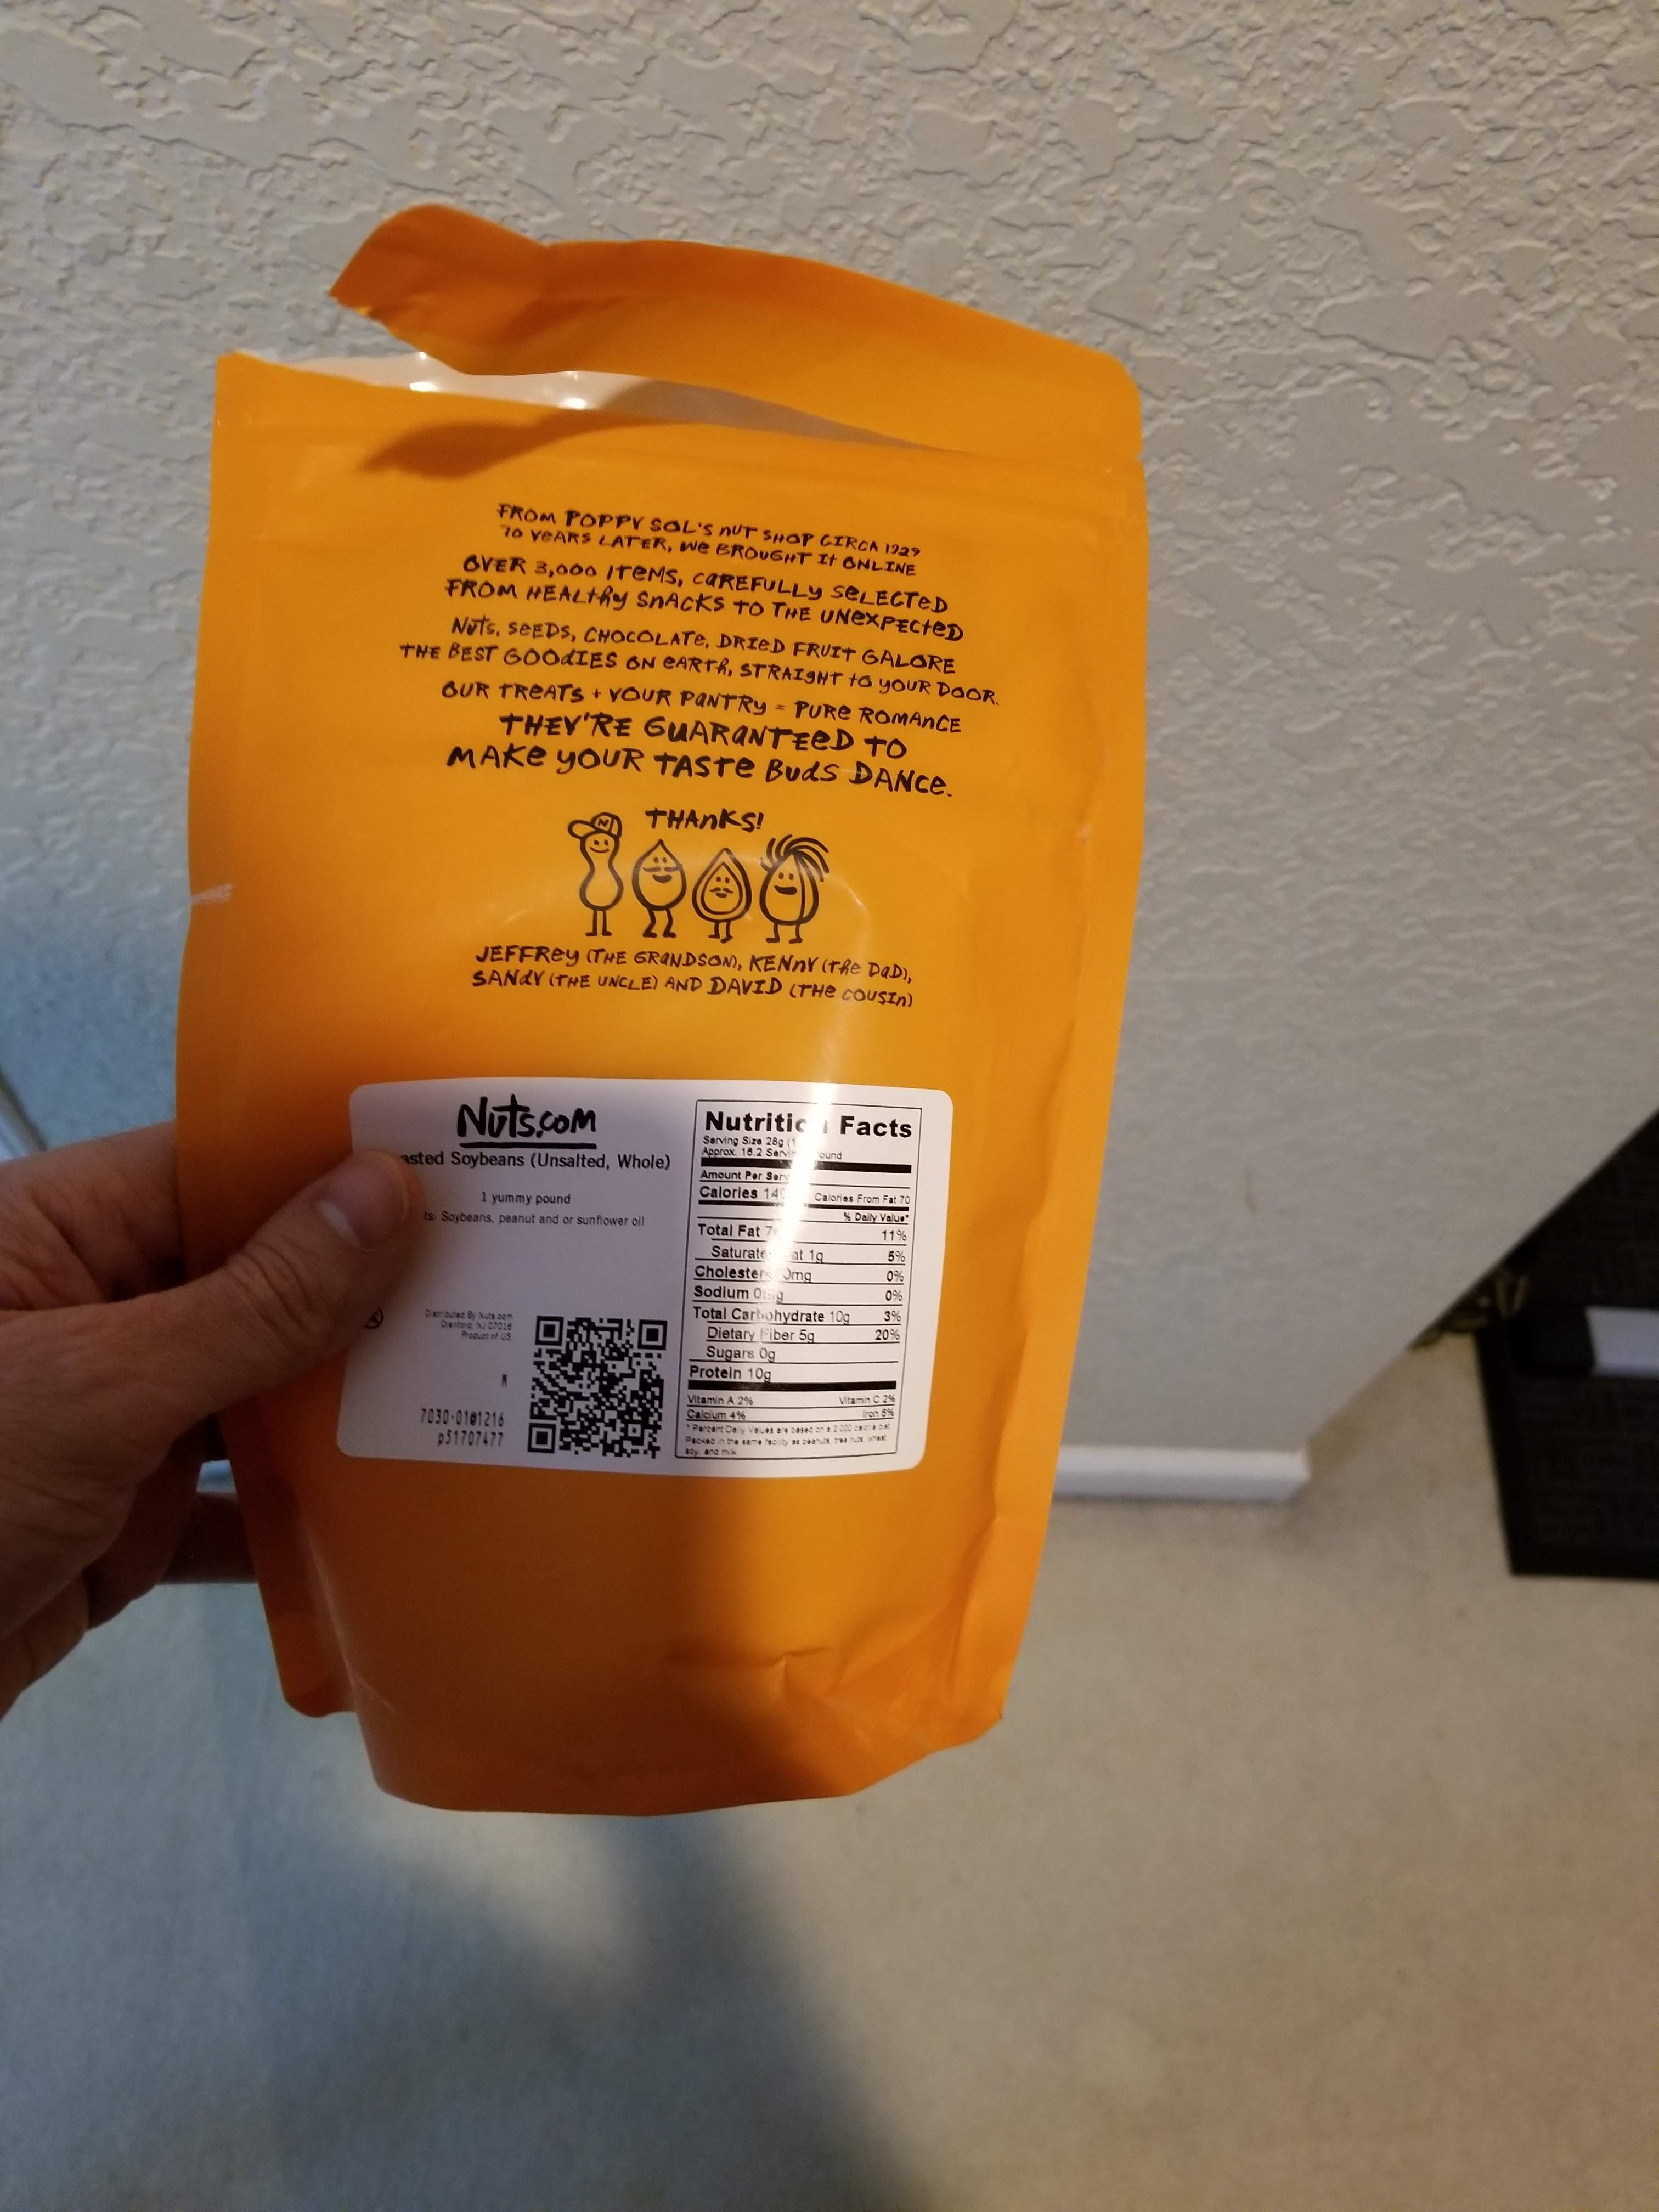QR_CODE: (507, 1296, 678, 1475)
